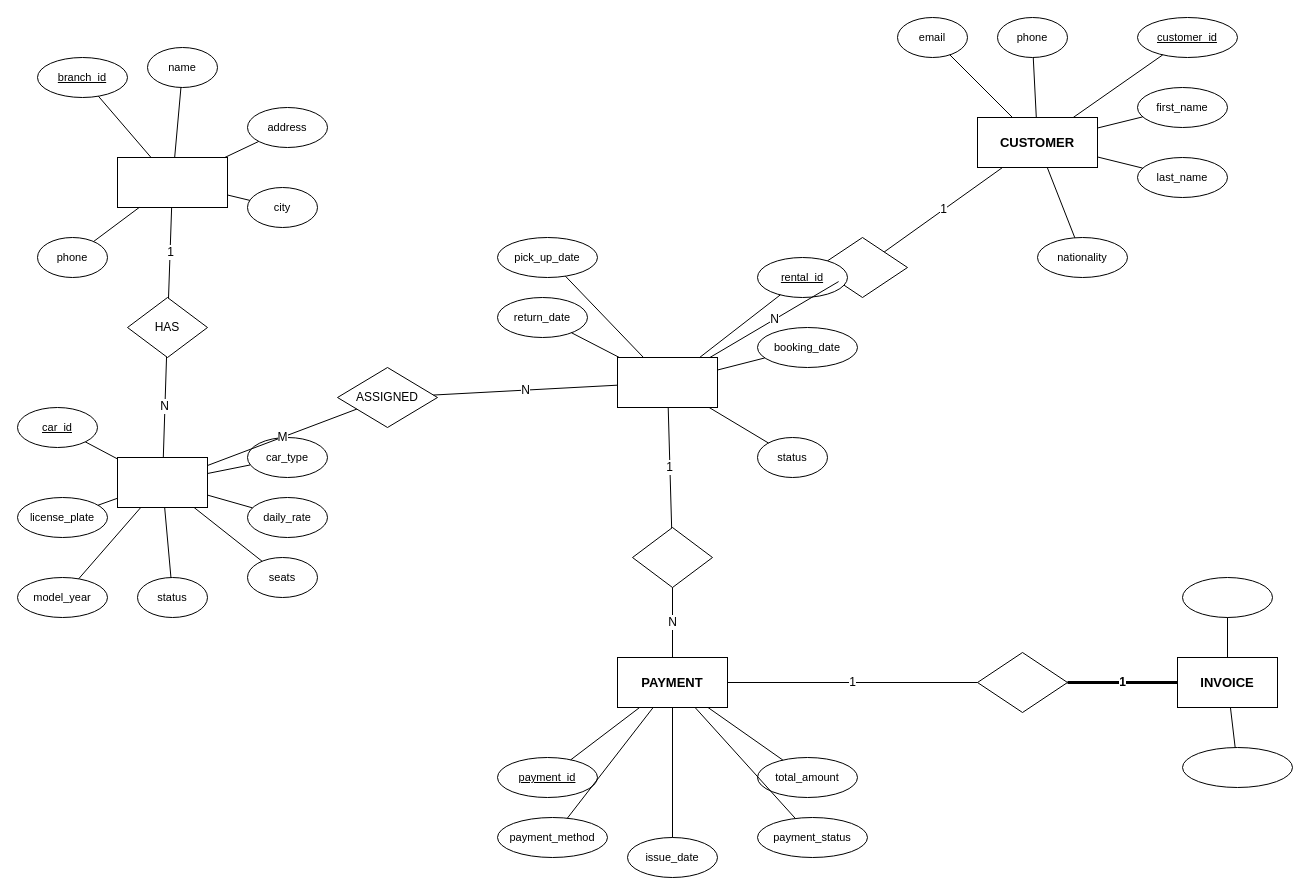
Some shapes in this 1310 by 895 pixel diagram are drawn without their labels. Here are the shapes that lost their labels. From the top down, the box of each, then its label:
(116, 156, 228, 208): BRANCH
(816, 236, 908, 298): RENTS
(616, 356, 718, 408): RENTAL
(116, 456, 208, 508): CAR
(632, 526, 712, 588): PAYS
(1182, 576, 1272, 618): invoice_id
(976, 652, 1068, 712): ISSUED
(1182, 746, 1292, 788): invoice_number
